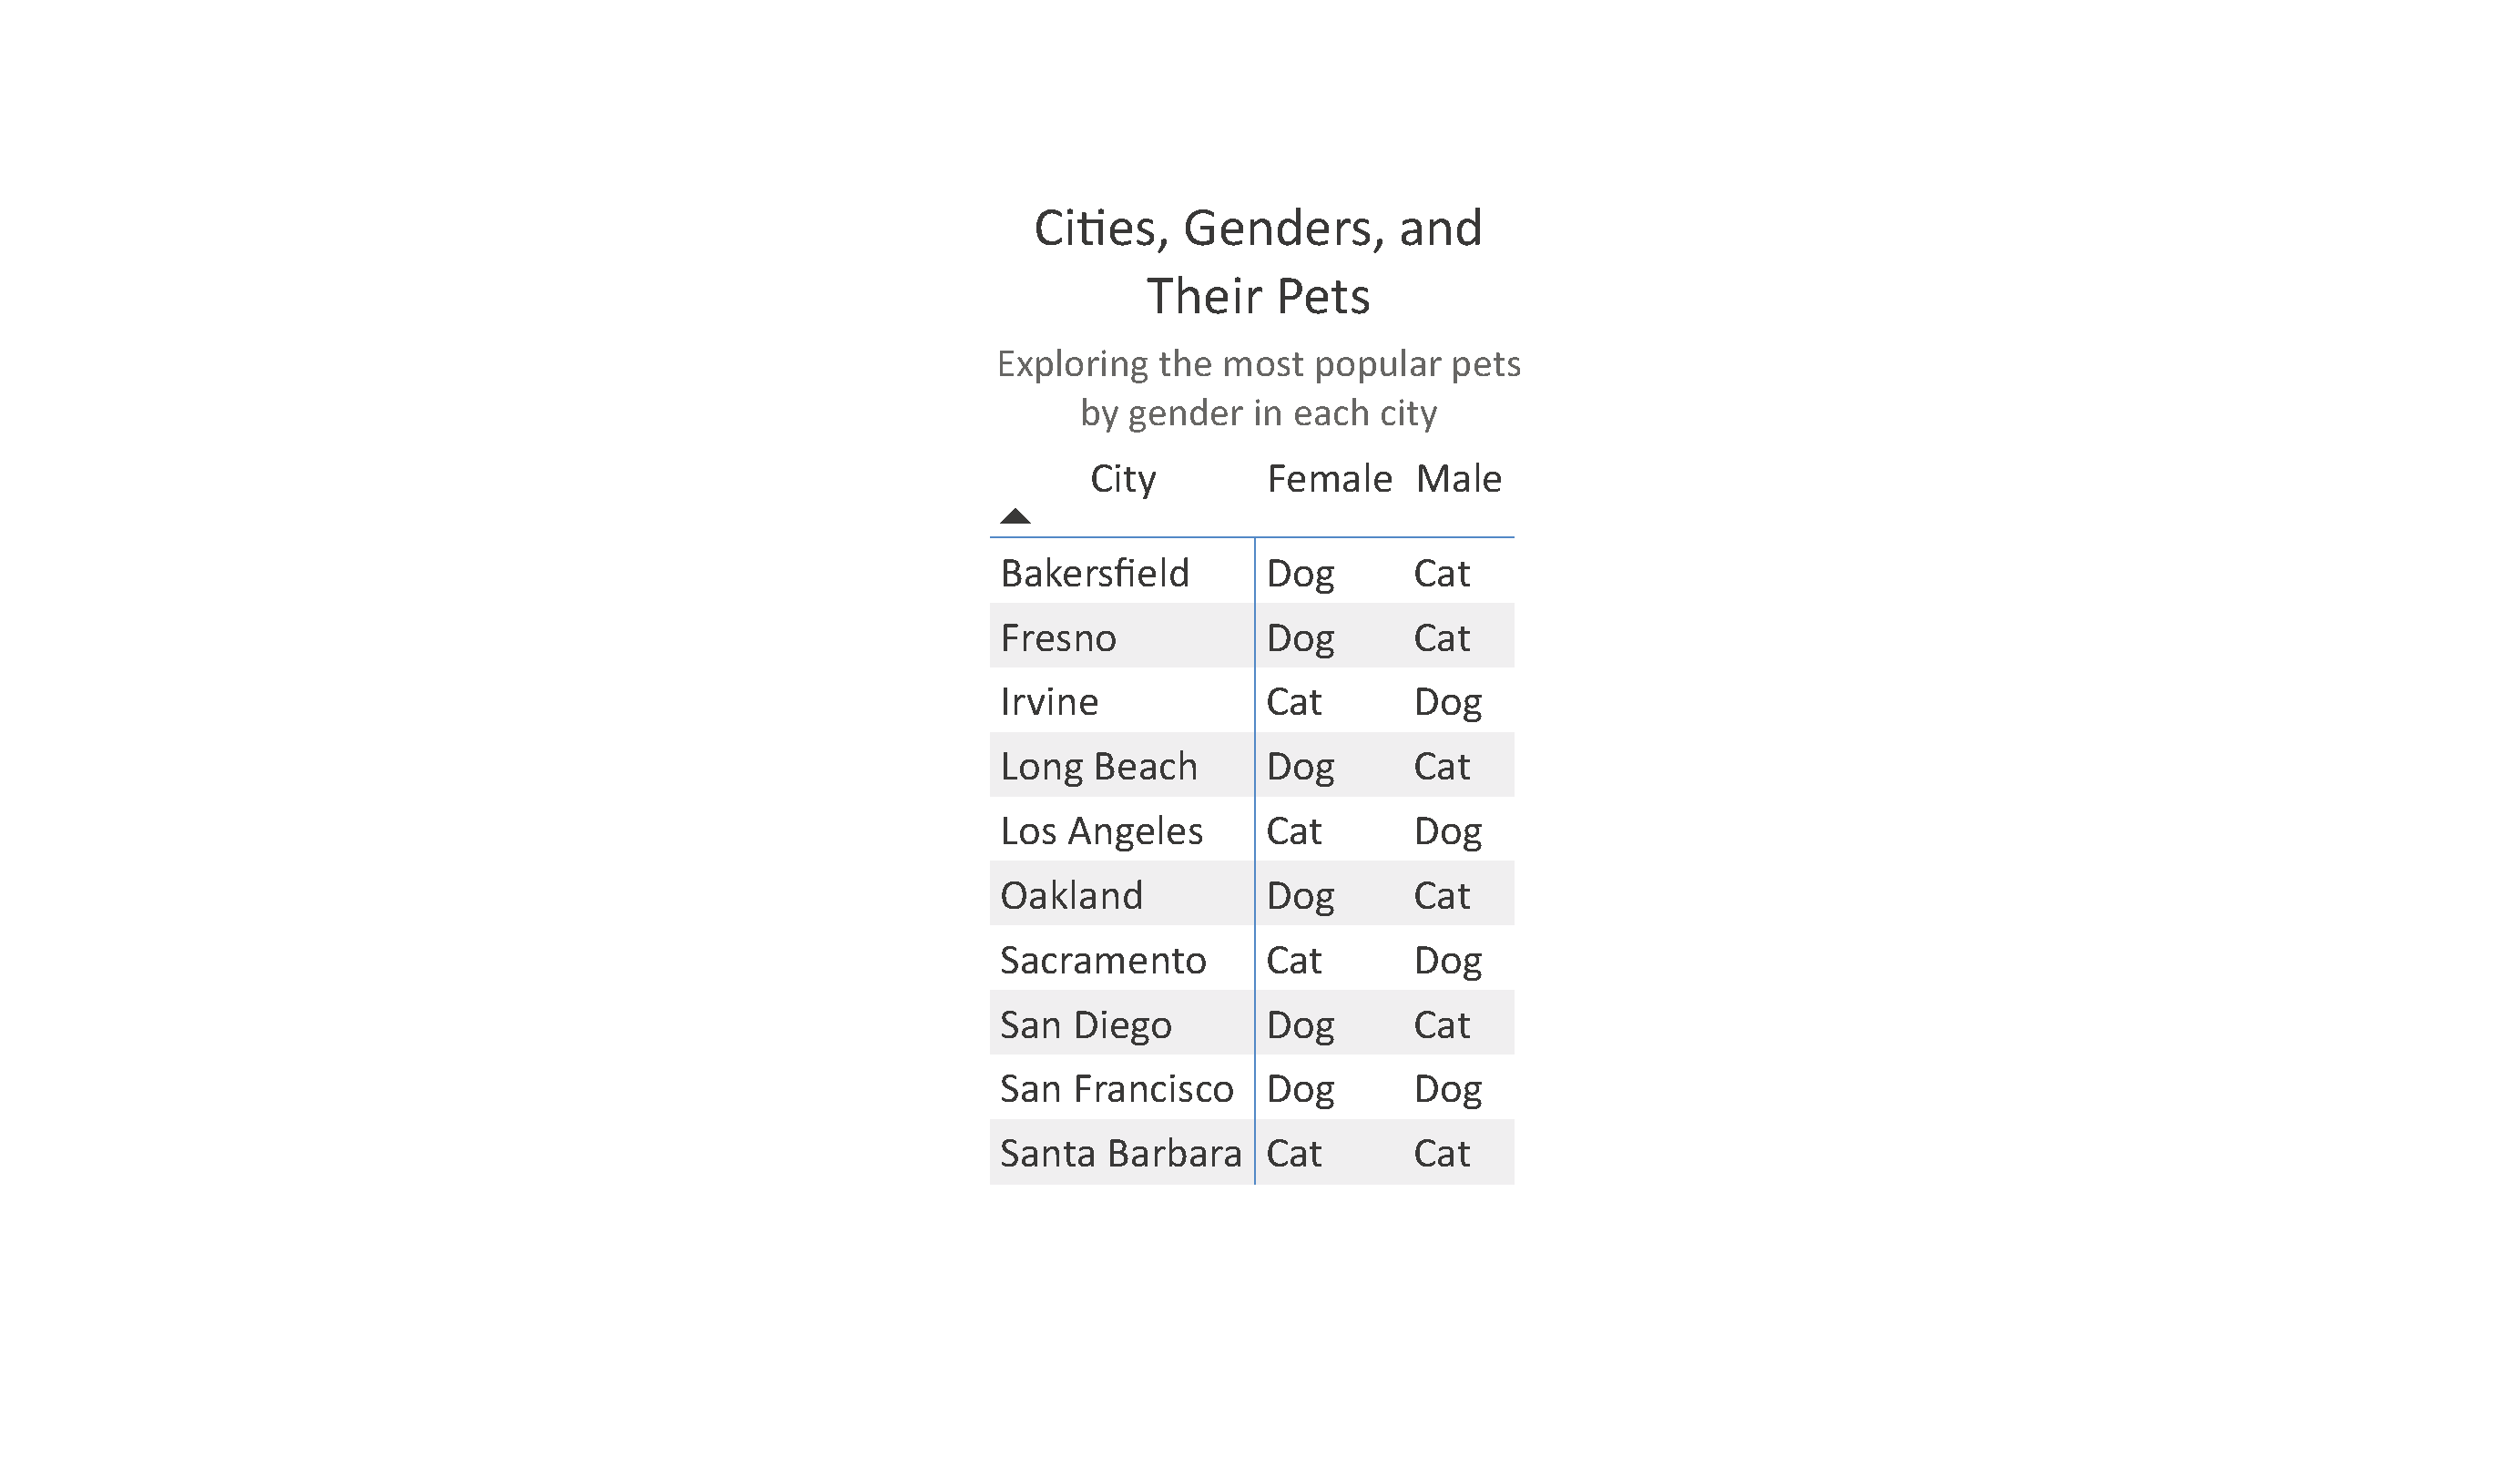

Layout of this report page (visuals, bound fields, positions):
{"tool":"powerbi","page":{"name":"1.4","canvas":[1280,720],"ordinal":3},"visuals":[{"type":"pivotTable","title":"Cities, Genders, and Their Pets","fields":{"Rows":["1 4_gender_preferences_by_city.city"],"Columns":["1 4_gender_preferences_by_city.gender"],"Values":["Min(1 4_gender_preferences_by_city.pet_preferences)"]},"box":[478.4,77.4,322.3,564.6],"z":0}]}

Visuals, with their boxes on the page's 1280x720 design canvas (x1, y1, x2, y2). These are canvas units, not pixel positions in the 2520x1457 screenshot, which may show the page scaled, cropped or inside an application window:
"Cities, Genders, and Their Pets" pivotTable: <region>478, 77, 801, 642</region>
